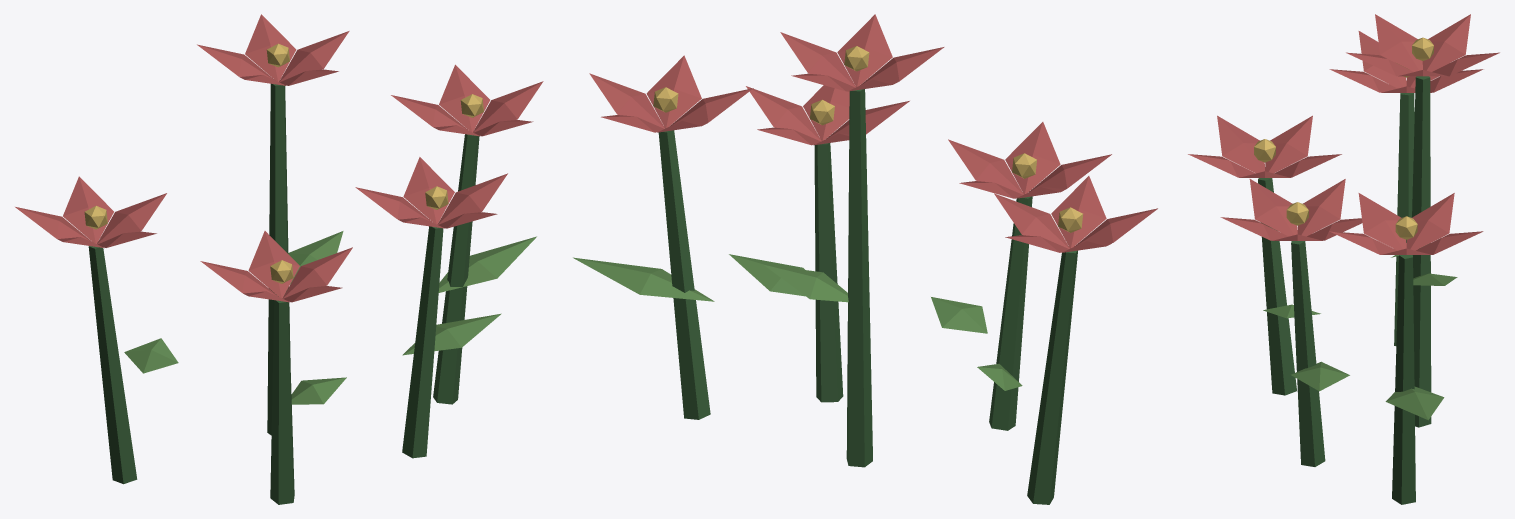
File: xingyin-environment-v2__nature__flower_red_cluster.glb
The picture shows the model from 3 angles, left to right: view 1: azimuth 30°, elevation 25°; view 2: azimuth 150°, elevation 25°; view 3: azimuth 270°, elevation 25°; orthographic projection. The views are drawn at different scales.
Visible parts, largest first — view 1: flower_red_cluster; view 2: flower_red_cluster; view 3: flower_red_cluster.
Boxes of the visible parts, <box> form: flower_red_cluster: <box>15,14,543,504</box>; flower_red_cluster: <box>573,14,1157,504</box>; flower_red_cluster: <box>1188,14,1499,504</box>.
Size of the model in its own units: 1.07 by 0.7819 by 0.5753.
